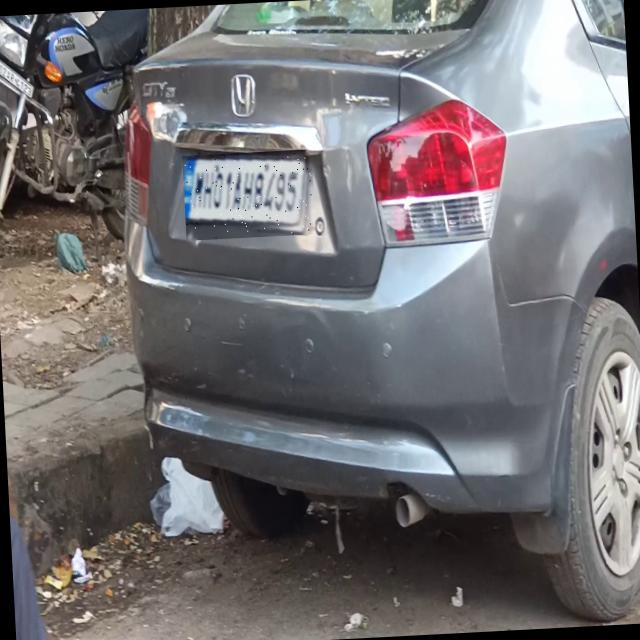Plate: (184, 150, 316, 242)
